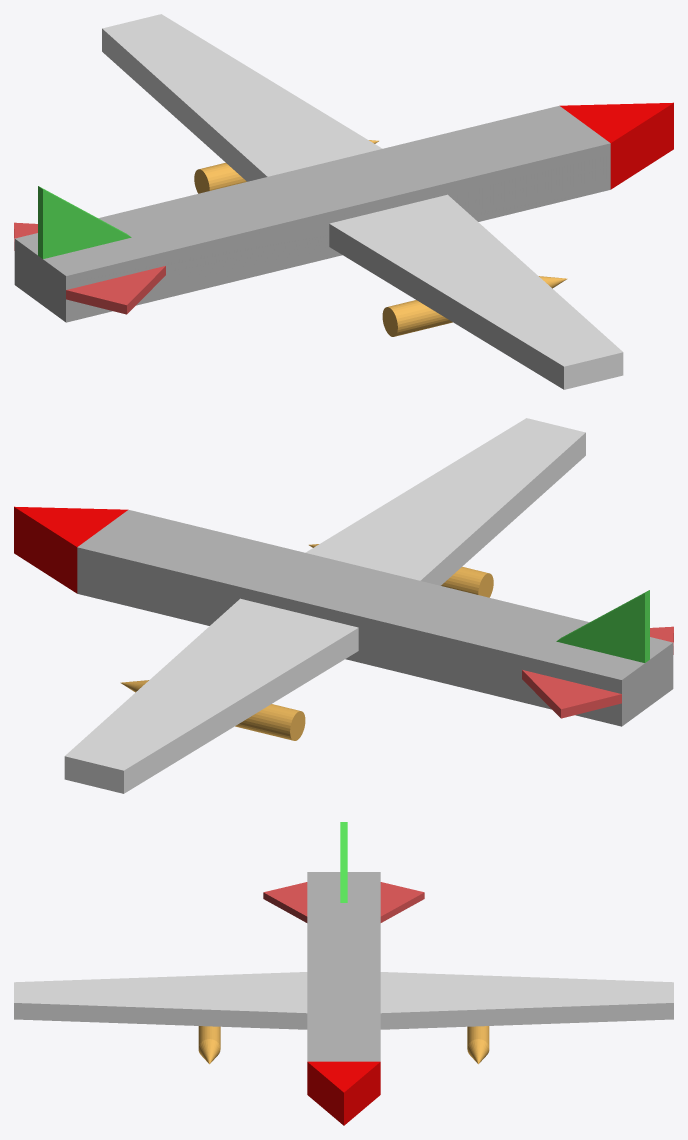
The picture shows the model from 3 angles, top to bottom: view 1: azimuth 30°, elevation 25°; view 2: azimuth 150°, elevation 25°; view 3: azimuth 270°, elevation 25°; orthographic projection. The views are drawn at different scales.
Visible parts, largest first — view 1: body, Wing_-1, Wing_1, Head, Fin, TailWing_-1, Missile_Wing_-1, Missile_Wing_1; view 2: body, Wing_1, Wing_-1, Head, Fin, TailWing_1, Missile_Wing_1, Missile_Wing_-1; view 3: Wing_1, Wing_-1, body, Head, TailWing_1, TailWing_-1, Missile_Wing_1, Missile_Wing_-1, Fin.
Part boxes in pixels (left/top/right/bottom): body: left=14, top=105, right=610, bottom=322; Wing_-1: left=329, top=194, right=623, bottom=389; Wing_1: left=102, top=14, right=382, bottom=181; Head: left=560, top=102, right=673, bottom=189; Fin: left=38, top=186, right=131, bottom=258; TailWing_-1: left=66, top=266, right=165, bottom=314; Missile_Wing_-1: left=382, top=276, right=567, bottom=336; Missile_Wing_1: left=194, top=140, right=378, bottom=193; body: left=77, top=509, right=673, bottom=726; Wing_1: left=64, top=598, right=358, bottom=793; Wing_-1: left=305, top=418, right=585, bottom=585; Head: left=14, top=506, right=127, bottom=593; Fin: left=556, top=590, right=649, bottom=662; TailWing_1: left=522, top=670, right=621, bottom=718; Missile_Wing_1: left=120, top=680, right=305, bottom=740; Missile_Wing_-1: left=309, top=544, right=493, bottom=597; Wing_1: left=380, top=972, right=673, bottom=1029; Wing_-1: left=14, top=972, right=307, bottom=1029; body: left=307, top=872, right=380, bottom=1061; Head: left=307, top=1061, right=380, bottom=1125; TailWing_1: left=380, top=882, right=424, bottom=922; TailWing_-1: left=263, top=882, right=307, bottom=922; Missile_Wing_1: left=467, top=1026, right=489, bottom=1064; Missile_Wing_-1: left=198, top=1026, right=220, bottom=1064; Fin: left=340, top=822, right=347, bottom=902.
Bounding box in the file's own units: 14.25 × 3.05 × 18.
